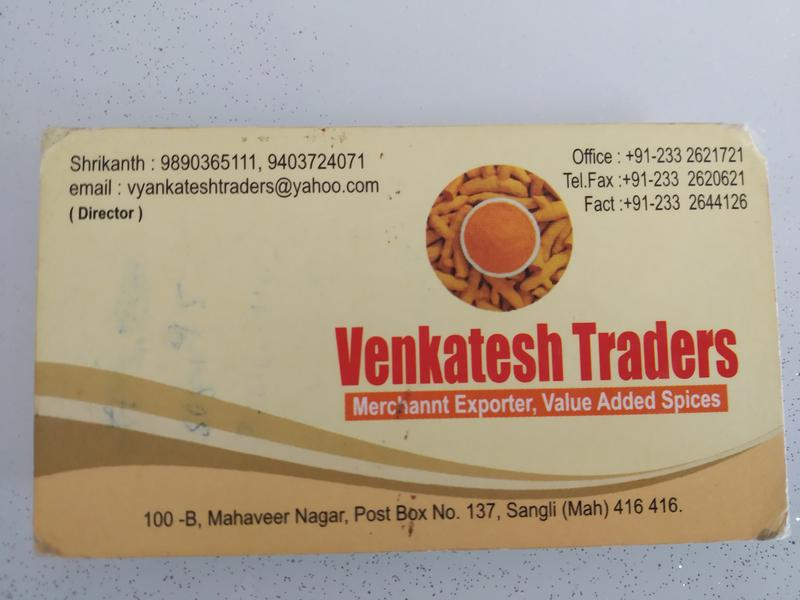card: (32, 125, 790, 545)
